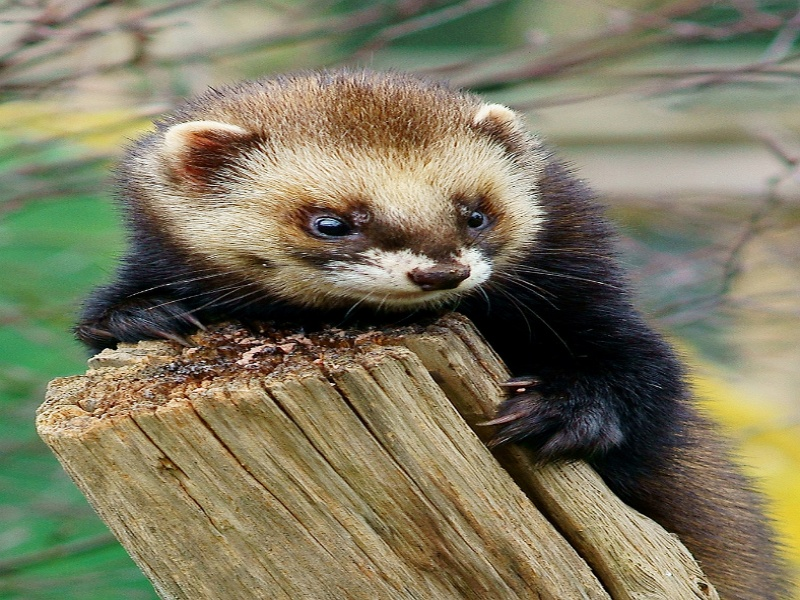minkish: (71, 83, 789, 593)
